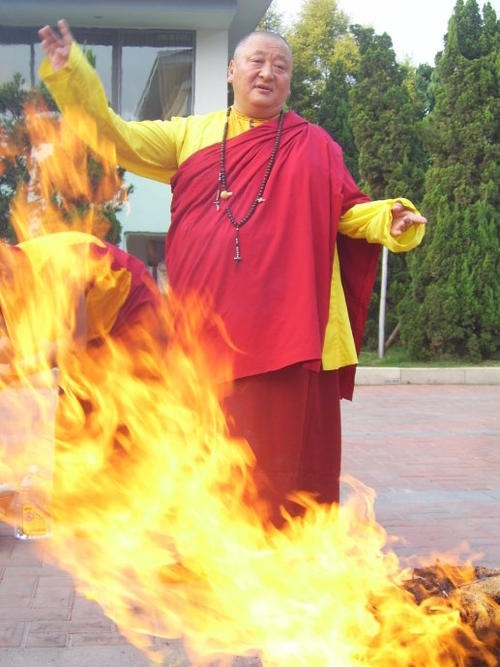fire: (0, 106, 335, 662)
